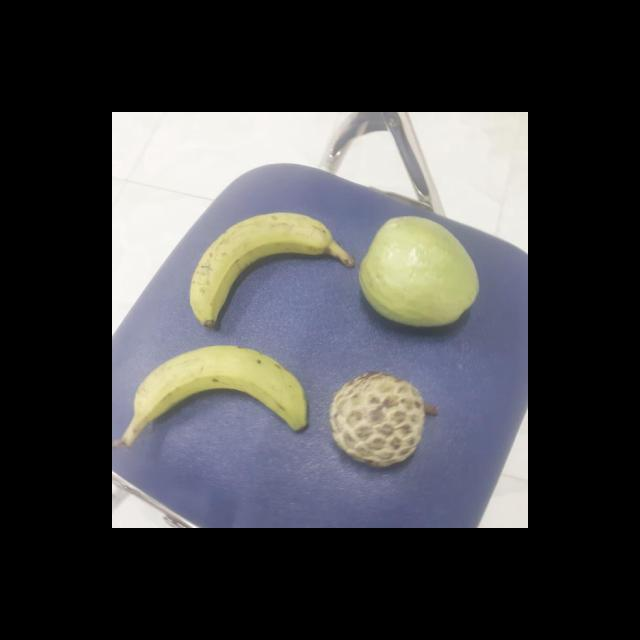Sakya fruit: (331, 372, 436, 468)
banana: (190, 212, 362, 330), (133, 345, 317, 441)
guava: (358, 214, 480, 328)
